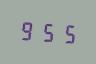five: (38, 19, 56, 44), (57, 20, 75, 45)
nine: (18, 18, 36, 43)
